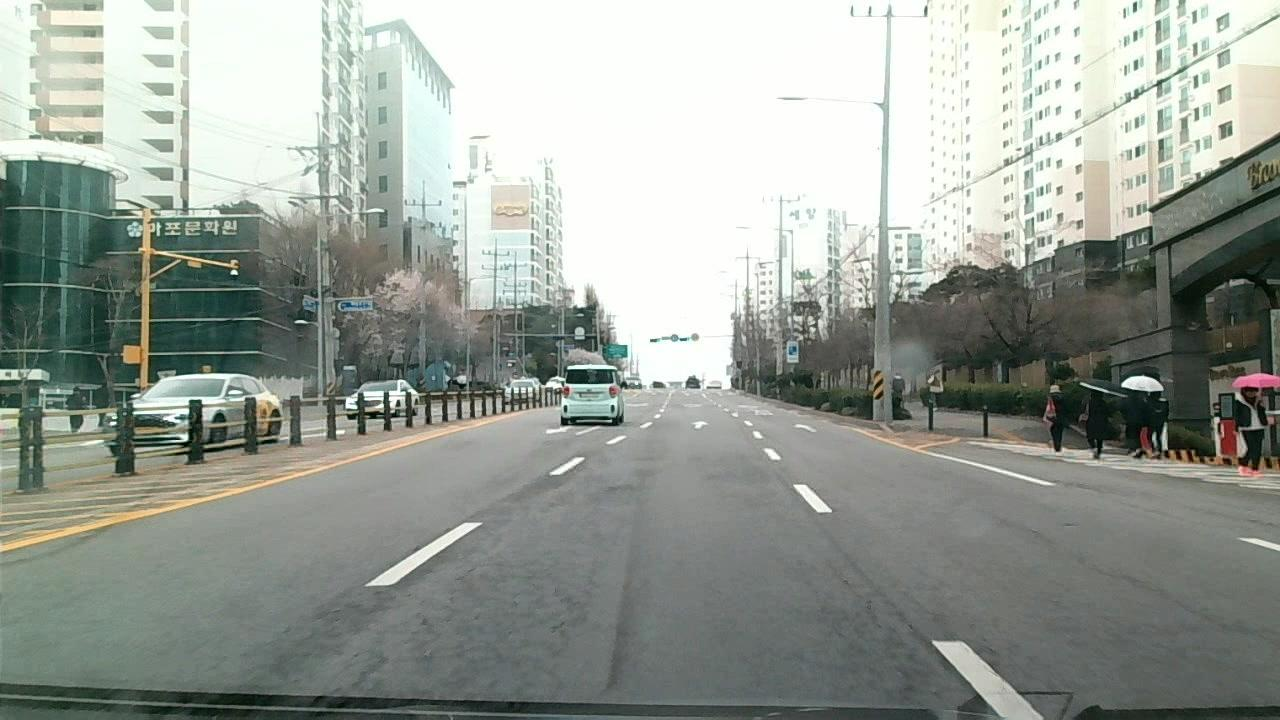erosion: (340, 534, 597, 705)
vcrack: (819, 557, 884, 629)
